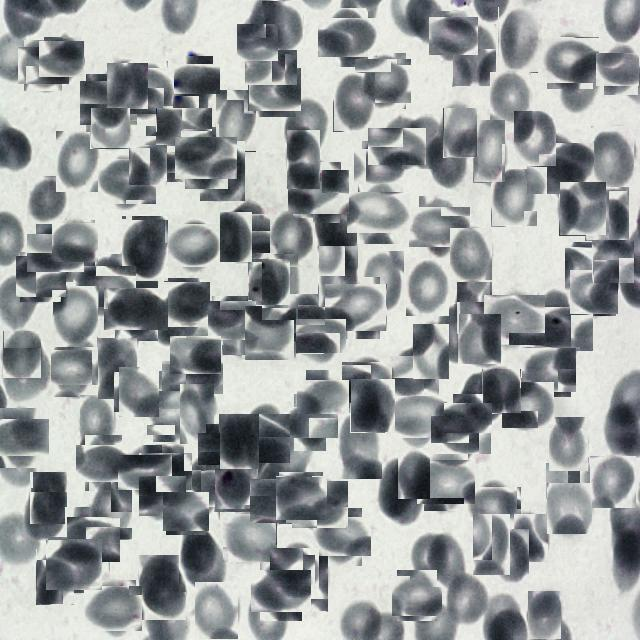red blood cell: (530, 138, 590, 198), (528, 300, 586, 358), (229, 410, 286, 467), (138, 555, 186, 621), (486, 292, 542, 348), (316, 200, 362, 268), (179, 523, 224, 592), (121, 216, 168, 282), (328, 280, 384, 335), (60, 512, 115, 567), (282, 548, 328, 612), (47, 538, 101, 592), (338, 413, 382, 479), (425, 127, 471, 190), (110, 282, 163, 336), (118, 64, 172, 117), (292, 166, 345, 219), (54, 286, 100, 347), (436, 304, 480, 367), (452, 24, 496, 87), (390, 391, 443, 443), (180, 132, 233, 184), (284, 96, 329, 157), (592, 126, 636, 188), (168, 220, 220, 272), (78, 260, 130, 312), (101, 156, 153, 208), (87, 582, 139, 634), (294, 479, 346, 531), (544, 34, 596, 86), (224, 512, 276, 564), (353, 186, 405, 238), (243, 307, 295, 359), (200, 141, 245, 201), (56, 131, 100, 192), (491, 168, 537, 226), (421, 456, 472, 508), (255, 565, 307, 616), (2, 348, 51, 402), (88, 480, 132, 540), (498, 7, 538, 73), (224, 208, 275, 259), (82, 78, 134, 128), (362, 251, 404, 312), (406, 258, 450, 316), (194, 582, 238, 640), (414, 201, 464, 252), (150, 388, 201, 438), (215, 90, 256, 152), (559, 182, 606, 236), (445, 571, 489, 628), (358, 56, 408, 106), (176, 464, 226, 514), (323, 12, 373, 62), (524, 344, 574, 394), (502, 380, 552, 430), (436, 410, 486, 460), (159, 104, 209, 154), (318, 246, 358, 308), (333, 73, 375, 132), (269, 211, 313, 267), (318, 512, 367, 562), (350, 379, 395, 433), (98, 336, 137, 398), (513, 111, 556, 167), (280, 300, 330, 348), (568, 244, 616, 294), (590, 456, 636, 508), (560, 58, 601, 116), (585, 187, 629, 241), (262, 254, 298, 320), (472, 514, 510, 576), (250, 65, 298, 114), (31, 229, 79, 277), (373, 122, 421, 170), (278, 474, 326, 522), (547, 483, 592, 534), (378, 461, 414, 524), (48, 344, 96, 391), (470, 482, 517, 530), (169, 354, 217, 401), (248, 40, 295, 88), (219, 414, 259, 470), (80, 439, 127, 486), (250, 478, 298, 524), (424, 532, 464, 587), (450, 228, 492, 280), (402, 114, 442, 168), (36, 549, 74, 605), (391, 354, 437, 400), (344, 360, 390, 406), (162, 280, 208, 326), (18, 254, 64, 300), (142, 131, 188, 177), (571, 268, 617, 314), (116, 368, 162, 414), (172, 332, 218, 378), (0, 414, 43, 463), (549, 417, 588, 471), (462, 372, 501, 426), (459, 314, 501, 364), (490, 72, 531, 123), (491, 529, 529, 584), (394, 573, 440, 618), (143, 448, 188, 494), (272, 546, 318, 591), (24, 492, 67, 540), (180, 384, 214, 444), (122, 450, 167, 495), (222, 310, 266, 356), (473, 120, 505, 183), (262, 1, 303, 50), (21, 44, 66, 88), (413, 324, 449, 379), (27, 176, 67, 225), (287, 130, 320, 189), (358, 145, 402, 189), (288, 400, 332, 444), (431, 14, 475, 58), (301, 374, 345, 418), (140, 474, 184, 518), (30, 472, 67, 524), (456, 282, 492, 335), (210, 298, 253, 342), (107, 63, 148, 109), (591, 240, 634, 283), (165, 491, 208, 534), (80, 395, 114, 449), (172, 74, 208, 125), (54, 221, 96, 264), (299, 314, 342, 356), (3, 331, 41, 378), (550, 460, 592, 502), (250, 260, 292, 302), (42, 38, 84, 80), (482, 369, 521, 414), (410, 534, 448, 580), (443, 108, 477, 158), (528, 591, 562, 640), (600, 50, 640, 91), (202, 428, 242, 469), (90, 108, 130, 149), (514, 514, 548, 562), (238, 22, 278, 62), (448, 398, 488, 438), (220, 212, 252, 262), (128, 145, 167, 186), (398, 450, 430, 499), (178, 60, 216, 98)
ring: (214, 468, 258, 512)
